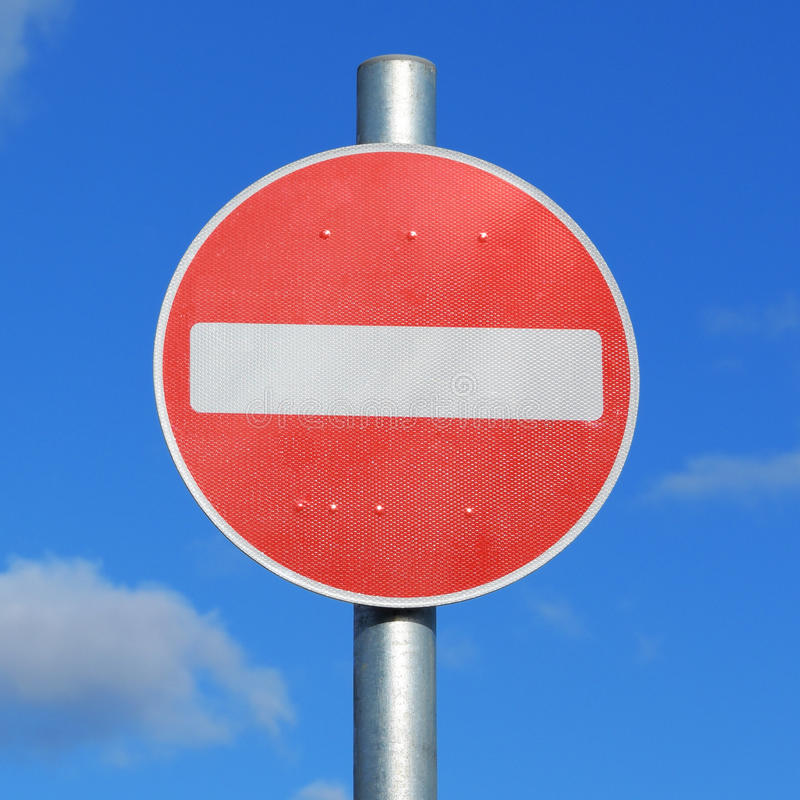No_entry: (151, 142, 641, 611)
